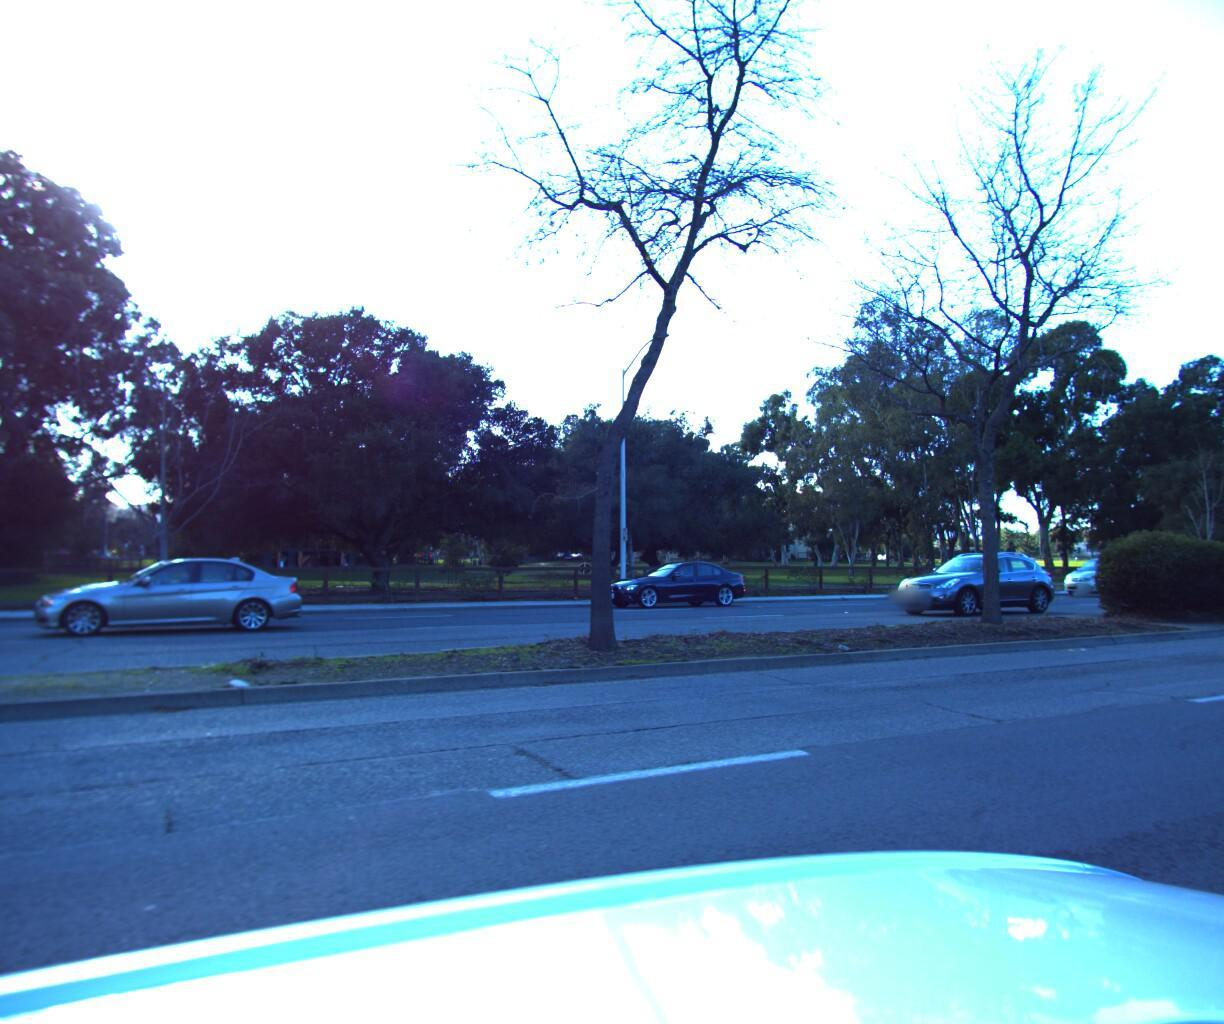car: (18, 552, 306, 640), (882, 544, 1062, 612), (590, 555, 749, 607), (1045, 548, 1169, 594)
